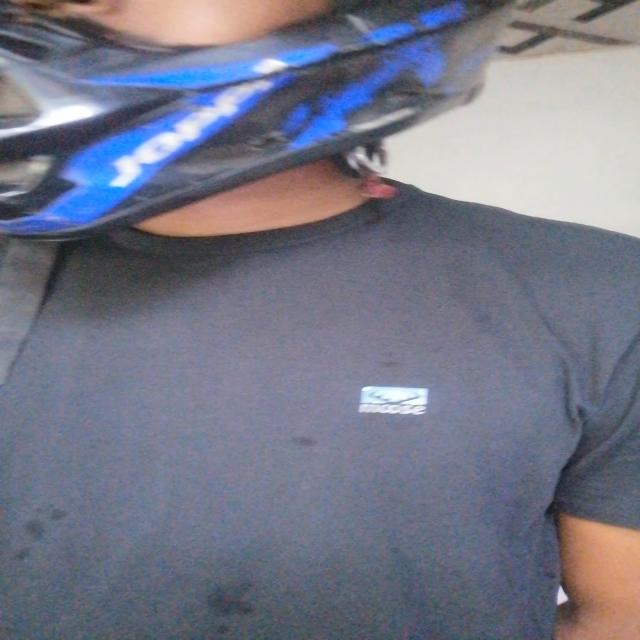Helmet_Wearer: (6, 0, 553, 266)
